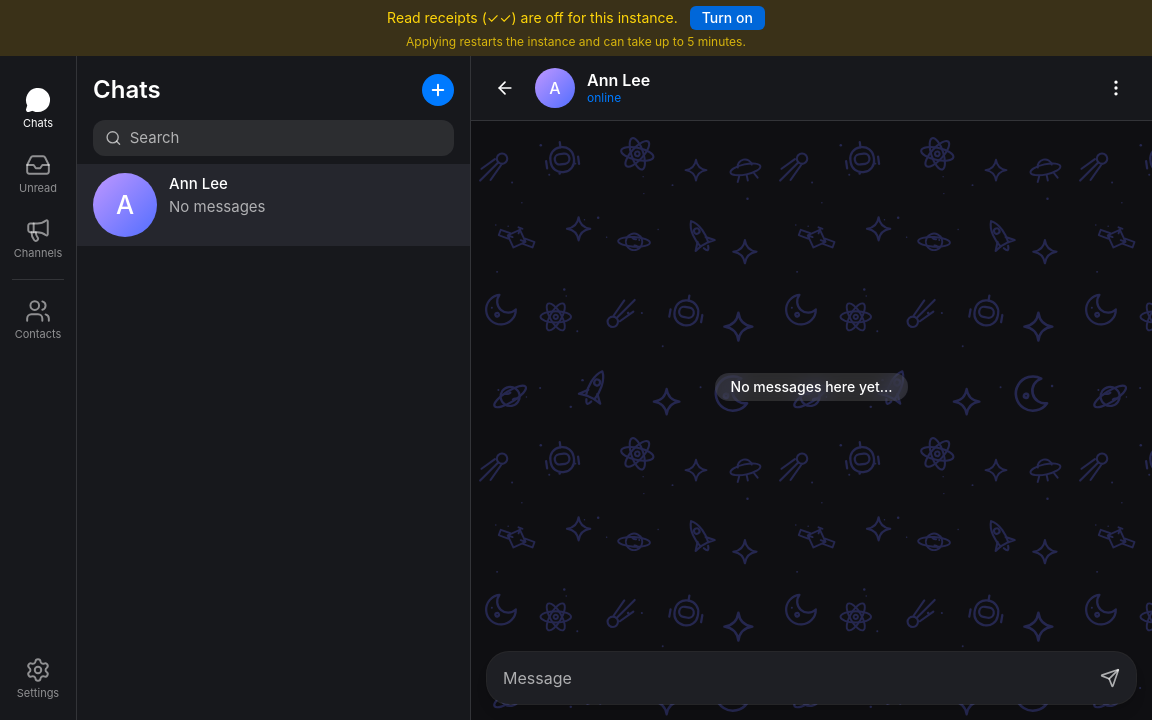
Test case: contacts list and the metered presence lookup › shows the status of a contact whose chat was already opened (shared cache)
Expected: the text "online" is shown, [587,90,621,105]
Click the button "Contacts" at (38, 320), box [4,291,72,349]
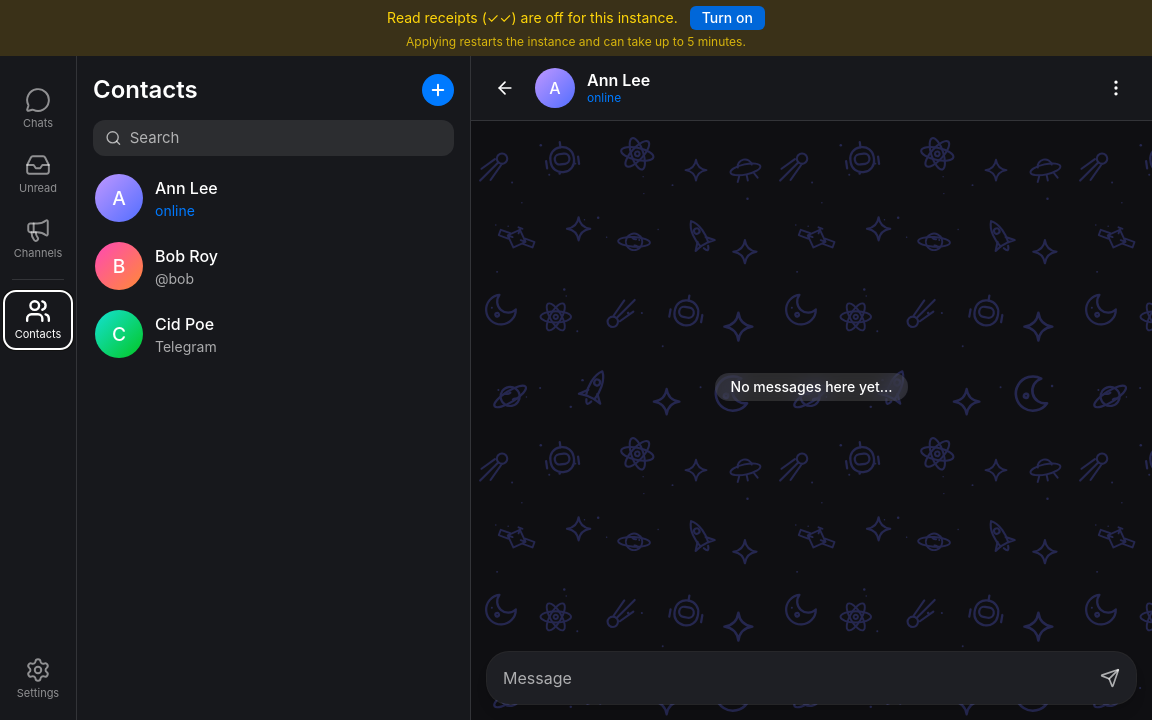
Now the 2nd text "online" is shown, box [155,202,195,218]
Now the text "@bob" is shown, box [155,270,194,286]
